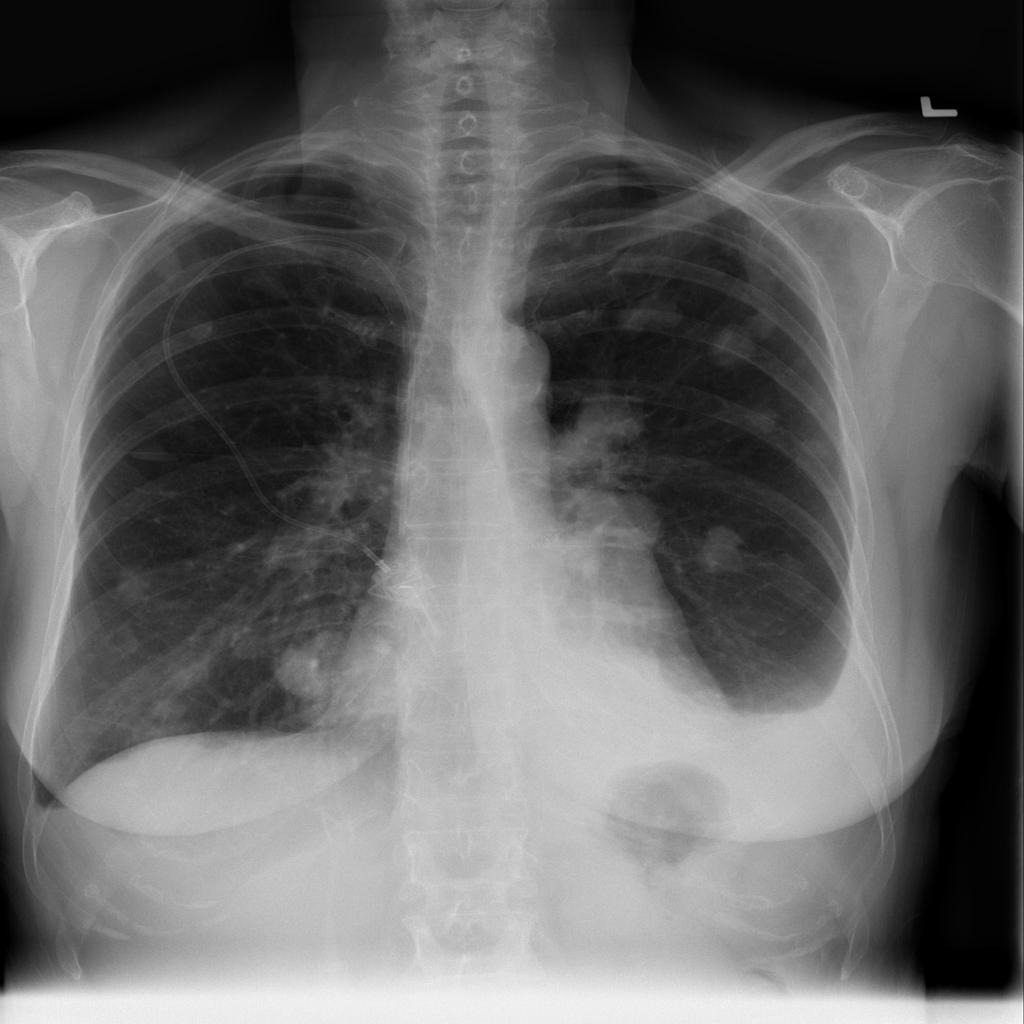nodule: (529, 467, 680, 580), (541, 382, 664, 480), (263, 611, 370, 720), (604, 283, 699, 346), (683, 514, 759, 587), (724, 388, 799, 451), (696, 316, 766, 382)
